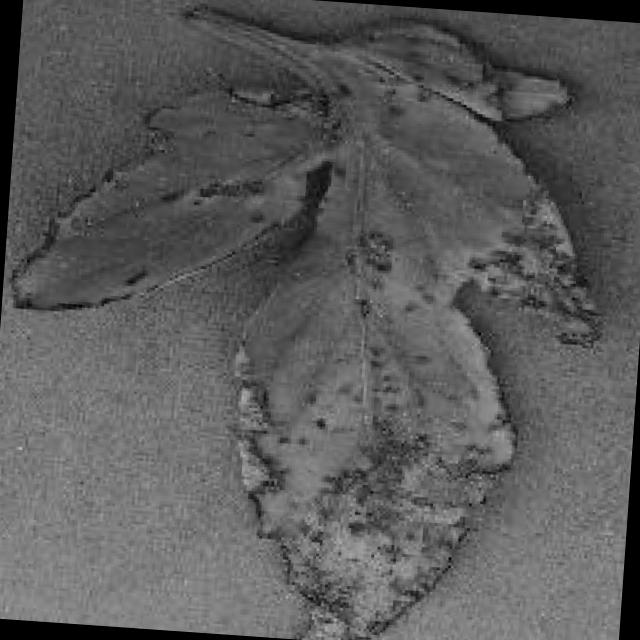bacterial spot: (13, 9, 598, 640)
